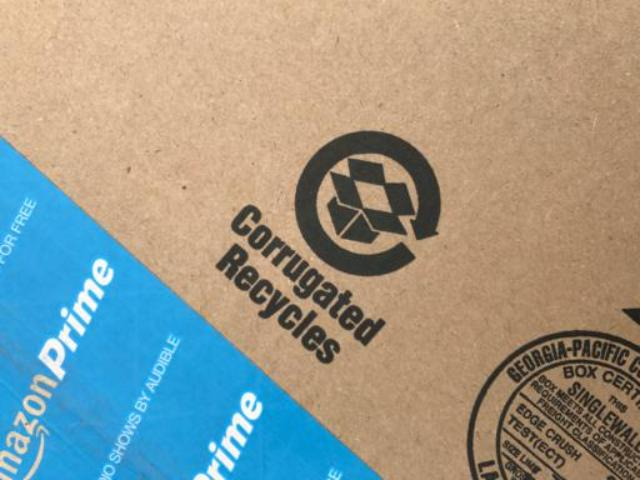cardboard paper: (0, 1, 638, 475)
